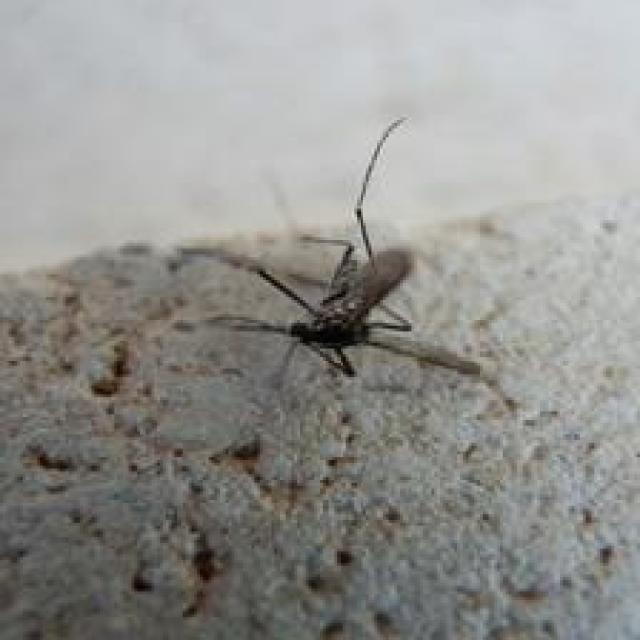Aedes albopictus: (177, 114, 509, 406)
